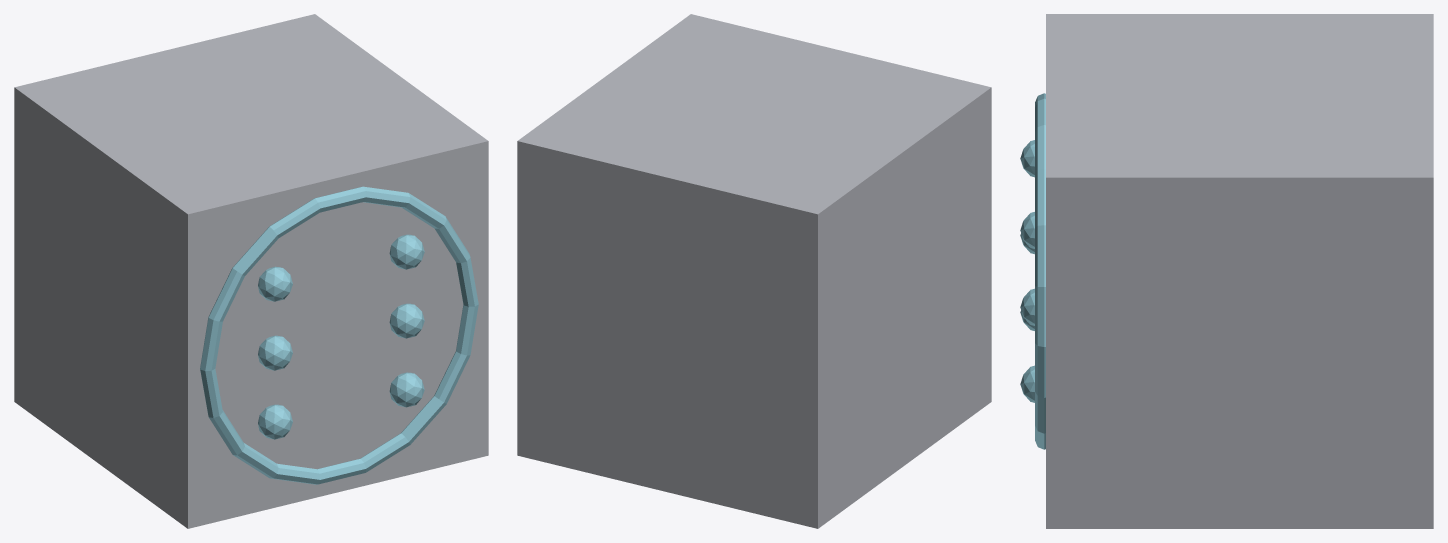
The model's file is kopie.glb.
3 renders of one model, left to right at view 1: azimuth 30°, elevation 25°; view 2: azimuth 150°, elevation 25°; view 3: azimuth 270°, elevation 25°, orthographic. The views are drawn at different scales.
Visible parts, largest first — view 1: world; view 2: world; view 3: world.
Boxes of the visible parts, x1,y1,x2,y2 form: world: [14, 14, 488, 528]; world: [517, 14, 991, 528]; world: [1020, 14, 1433, 528].
Size of the model in its own units: 1.05 by 1.05 by 1.12.
